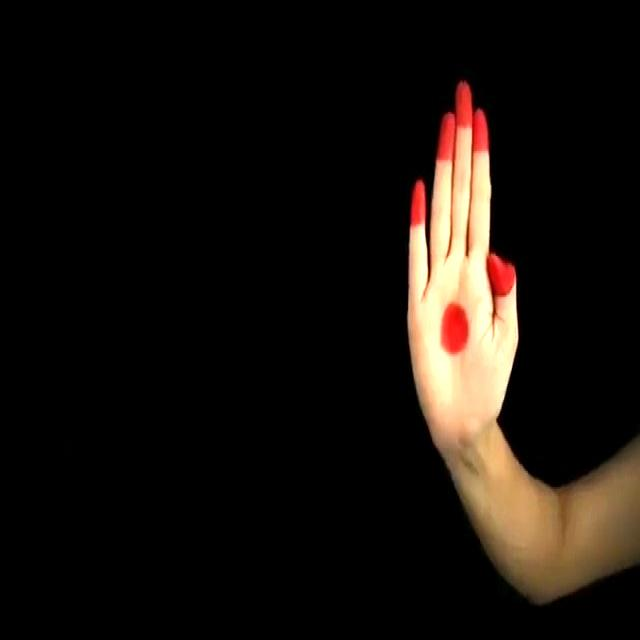Pataka: (389, 53, 548, 497)
